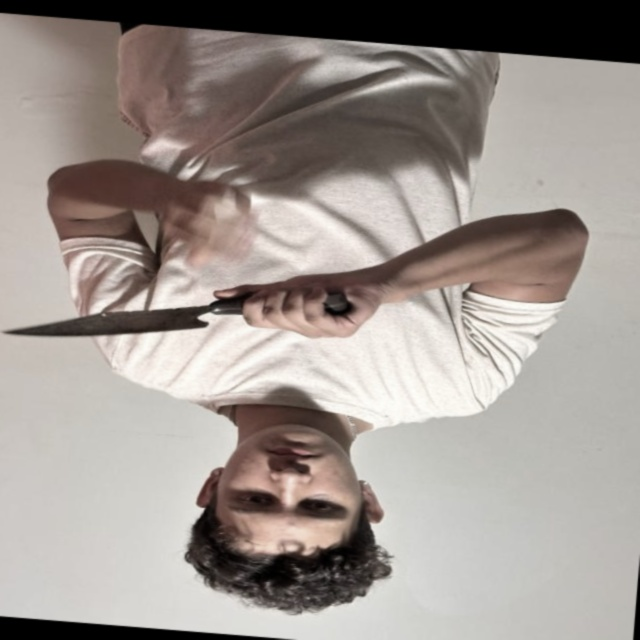Sharp-Object: (4, 291, 210, 353)
